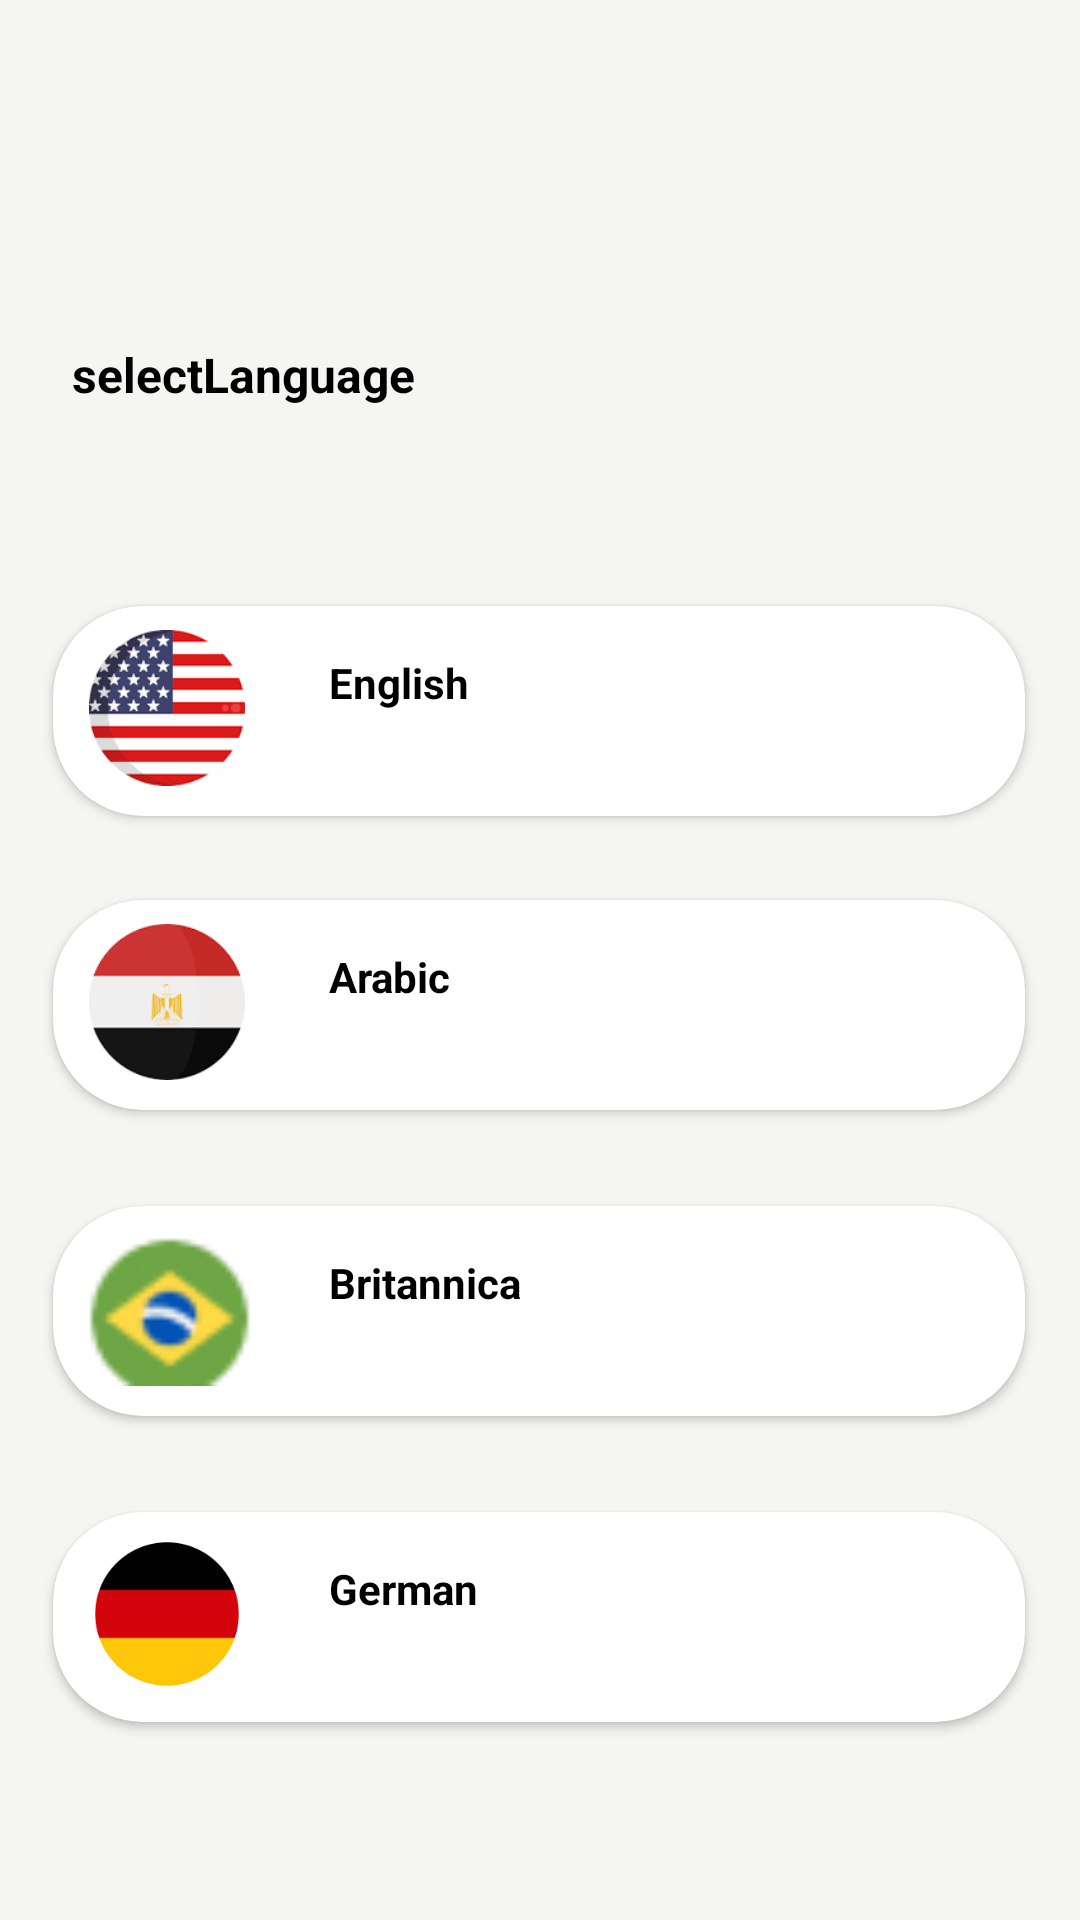

Screen size 1080w x 1920h. Icon name, then its box in pixels as BBox(x1, y1, x2, y2):
amirica: BBox(89, 630, 245, 786)
egflag: BBox(93, 924, 241, 1080)
gerflag: BBox(79, 1536, 239, 1686)
